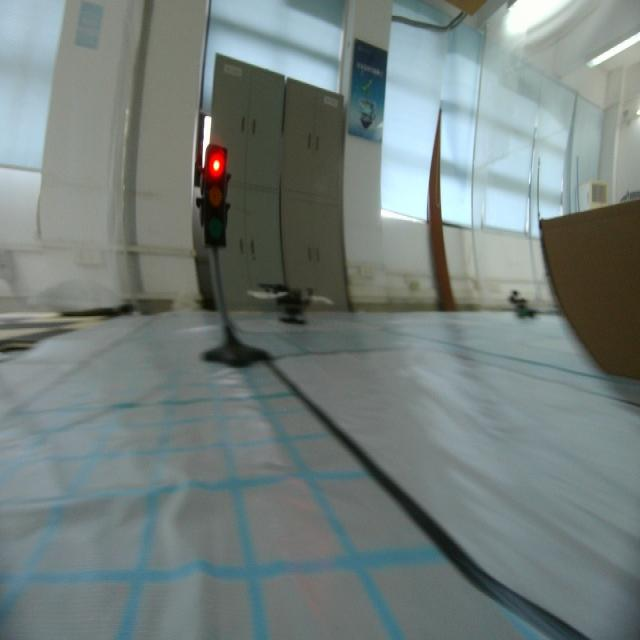red: (196, 143, 232, 258)
